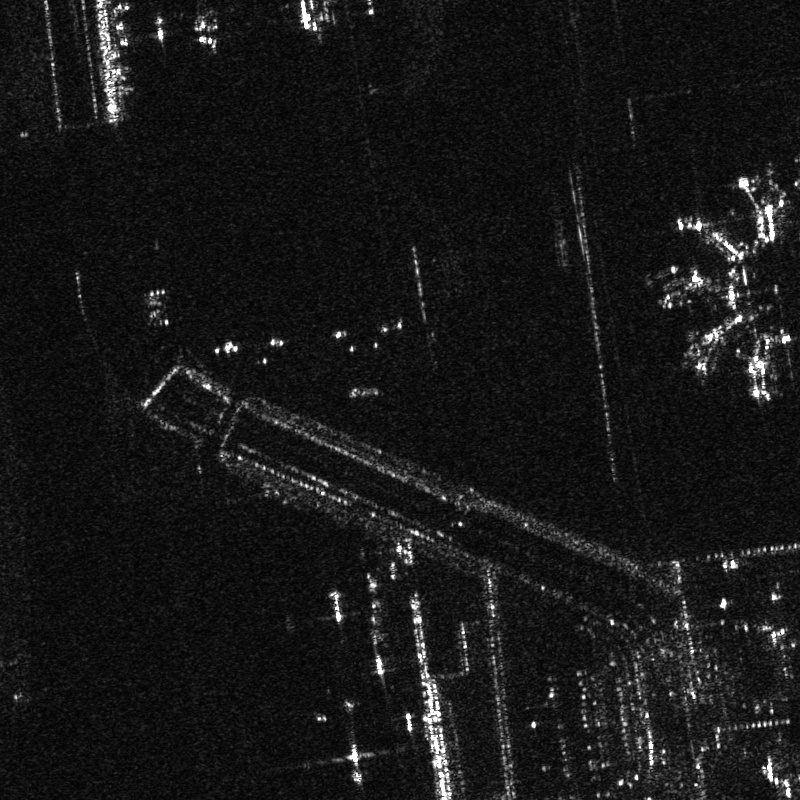A220: (172, 1, 237, 52)
